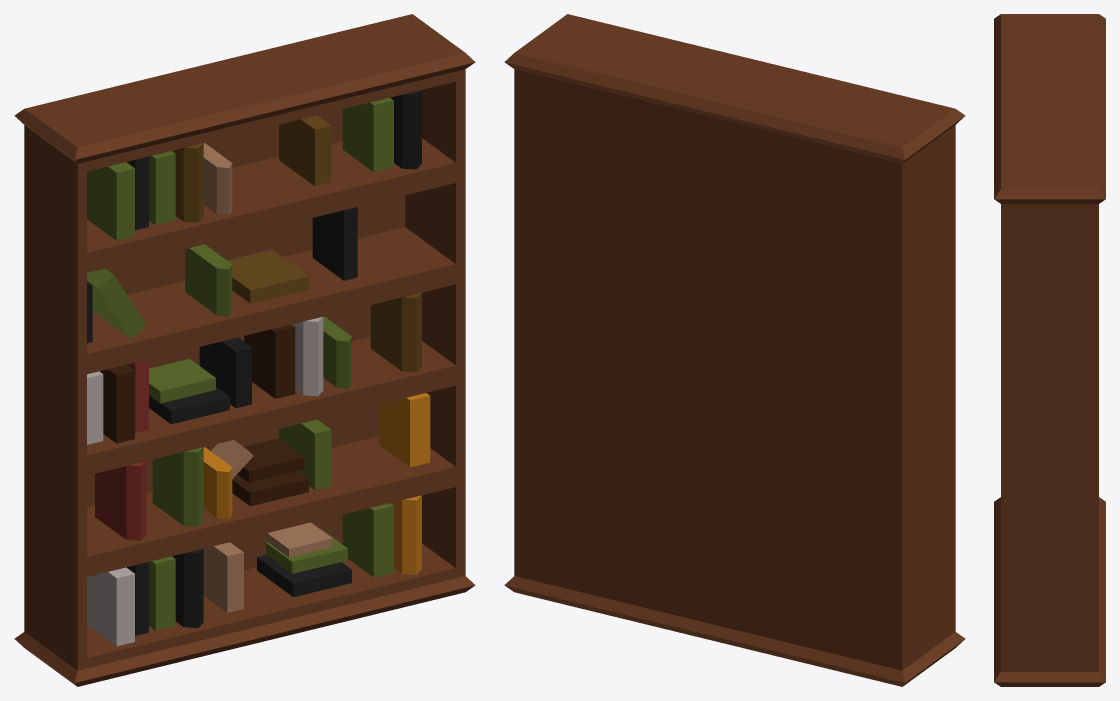
The model's file is Bookshelf.fbx.
The picture shows the model from 3 angles, left to right: view 1: azimuth 30°, elevation 25°; view 2: azimuth 150°, elevation 25°; view 3: azimuth 270°, elevation 25°; orthographic projection. The views are drawn at different scales.
Parts seen in each view (by area): view 1: Bookshelf; view 2: Bookshelf; view 3: Bookshelf.
Part boxes in pixels (x1=…): Bookshelf: x1=14, y1=14, x2=475, y2=686; Bookshelf: x1=504, y1=14, x2=965, y2=686; Bookshelf: x1=994, y1=14, x2=1105, y2=686.
Size of the model in its own units: 327 by 420 by 85.39.
